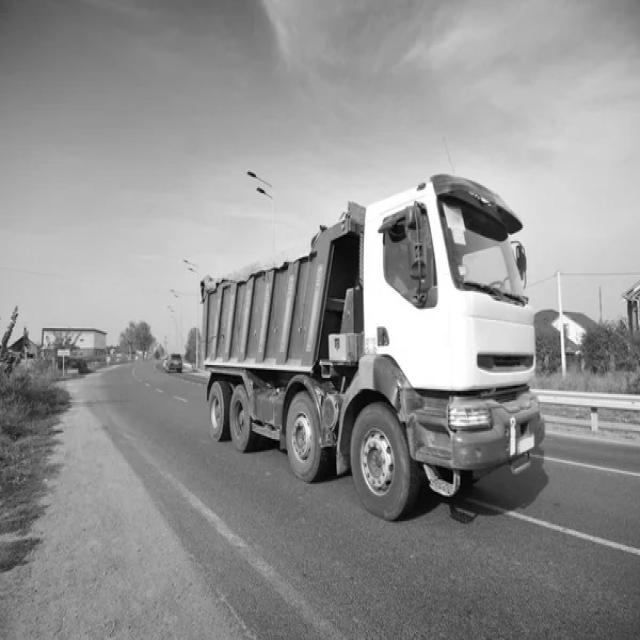Truck: (202, 174, 545, 520)
